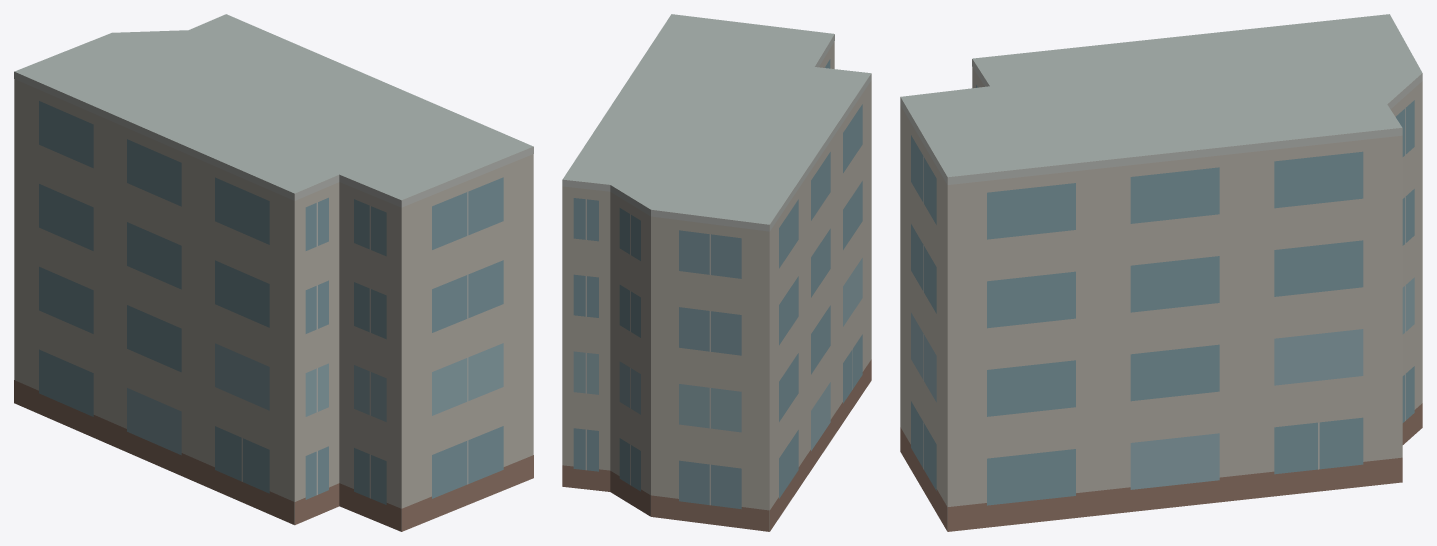
Rendered from survey-upis-32717551.glb.
The picture shows the model from 3 angles, left to right: view 1: azimuth 30°, elevation 25°; view 2: azimuth 150°, elevation 25°; view 3: azimuth 270°, elevation 25°; orthographic projection. The views are drawn at different scales.
Parts seen in each view (by area): view 1: survey-upis-32717551.tmp; view 2: survey-upis-32717551.tmp; view 3: survey-upis-32717551.tmp.
Boxes of the visible parts, x1,y1,x2,y2 form: survey-upis-32717551.tmp: (14,14,533,531); survey-upis-32717551.tmp: (562,14,871,531); survey-upis-32717551.tmp: (900,14,1422,531).
Size of the model in its own units: 10.85 by 10.98 by 14.67.
